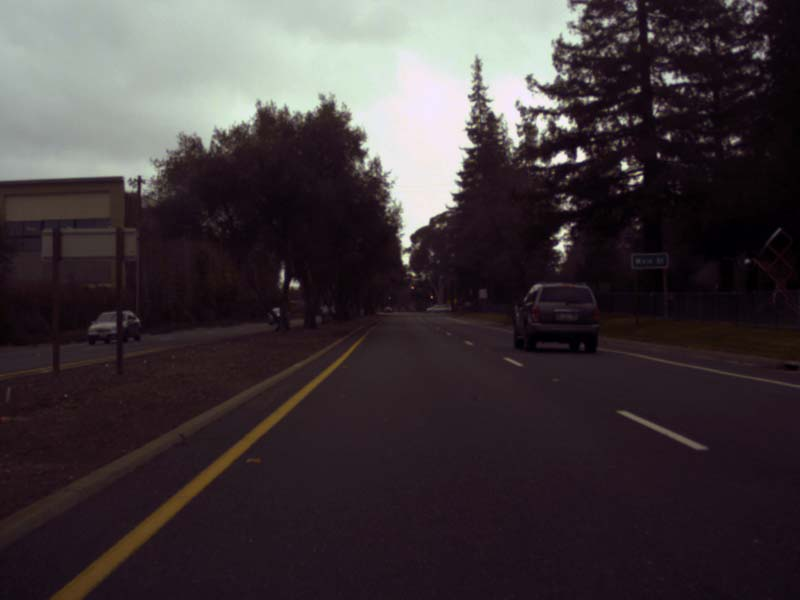Red: (409, 283, 414, 291), (429, 293, 433, 301), (387, 294, 391, 301)
